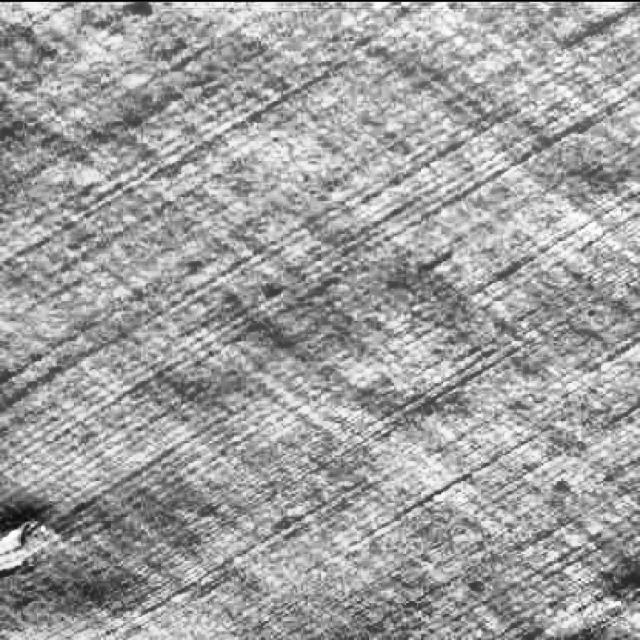hole: (0, 494, 67, 594)
